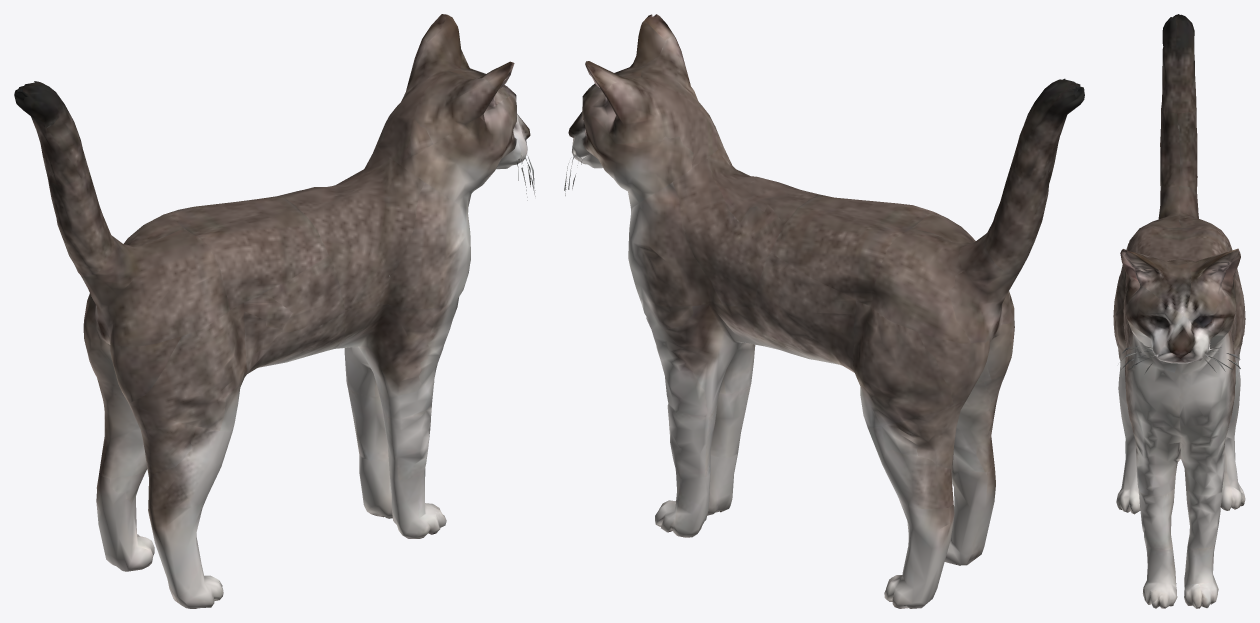
The model's file is PIENMINT-lo.glb.
3 renders of one model, left to right at view 1: azimuth 30°, elevation 25°; view 2: azimuth 150°, elevation 25°; view 3: azimuth 270°, elevation 25°, orthographic. The views are drawn at different scales.
Parts seen in each view (by area): view 1: tripo_node_801e3b50-709e-4ac8-a030-aa6dfe787b35; view 2: tripo_node_801e3b50-709e-4ac8-a030-aa6dfe787b35; view 3: tripo_node_801e3b50-709e-4ac8-a030-aa6dfe787b35.
Boxes of the visible parts, x1,y1,x2,y2 form: tripo_node_801e3b50-709e-4ac8-a030-aa6dfe787b35: (14, 14, 535, 608); tripo_node_801e3b50-709e-4ac8-a030-aa6dfe787b35: (564, 14, 1084, 608); tripo_node_801e3b50-709e-4ac8-a030-aa6dfe787b35: (1113, 14, 1245, 608).
Bounding box in the file's own units: 0.9985 × 0.9984 × 0.2728.
Materials: 1 (1 with a texture image).
